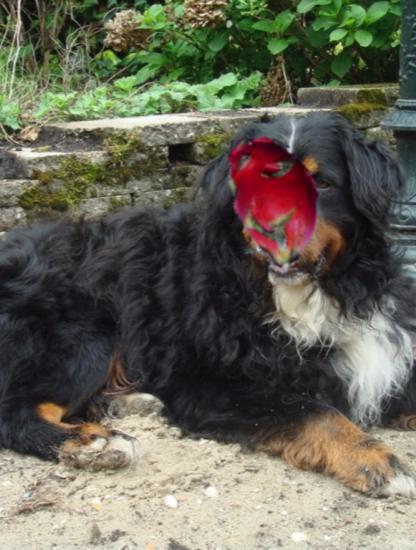Pitahaya: (203, 128, 349, 274)
